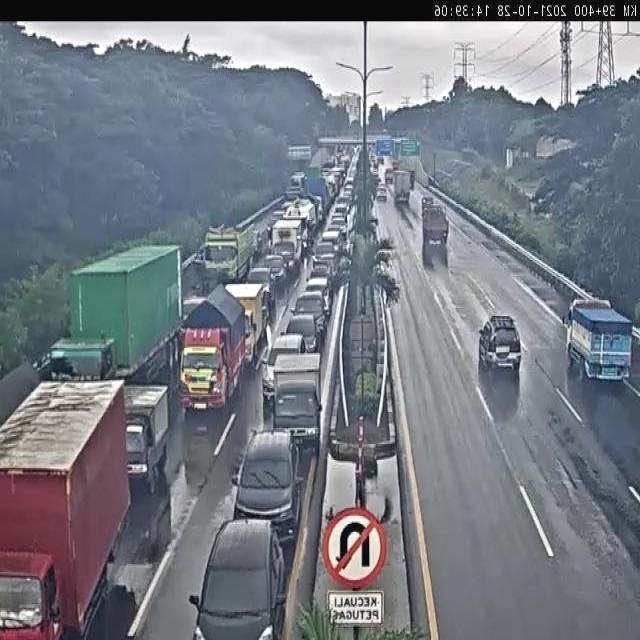Car: (186, 520, 288, 640), (230, 432, 304, 544), (479, 314, 522, 373)
Truck: (0, 380, 131, 640), (51, 244, 179, 432), (180, 284, 246, 417), (95, 385, 169, 500), (561, 296, 632, 386), (272, 354, 324, 458), (215, 284, 262, 368), (202, 222, 256, 291), (271, 219, 302, 277), (421, 205, 450, 248), (393, 170, 411, 204)
